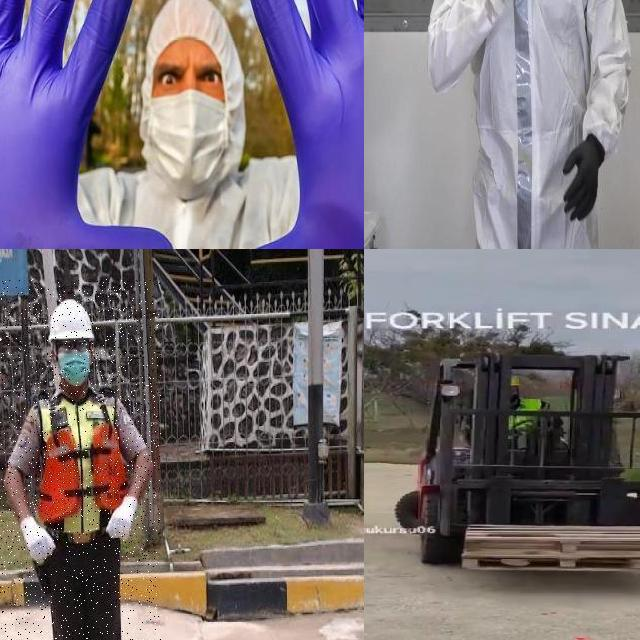GLASS: (57, 340, 90, 353)
GLOVE: (19, 516, 57, 564), (106, 496, 140, 539)
Glove: (0, 0, 178, 249), (199, 0, 364, 249), (562, 134, 605, 224)
HELMET: (47, 297, 95, 344)
MASK: (144, 90, 226, 198)
VEST: (39, 389, 128, 545)
